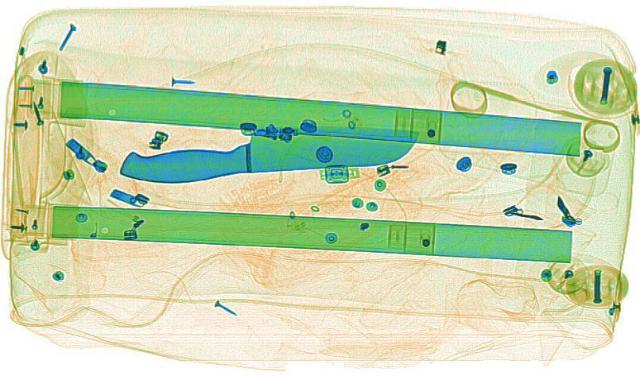Knife: (110, 115, 426, 185)
